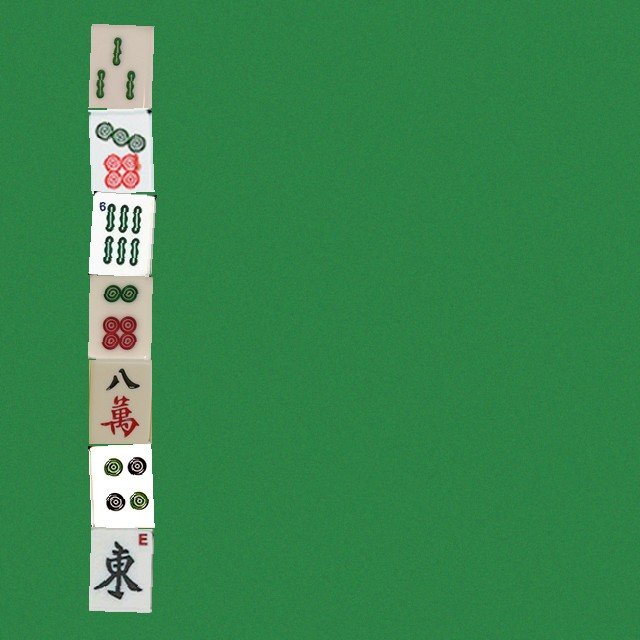tile: (88, 23, 151, 107), (88, 107, 151, 191), (88, 191, 151, 275), (88, 275, 151, 359), (88, 359, 151, 443), (88, 443, 151, 527), (88, 527, 151, 611)
